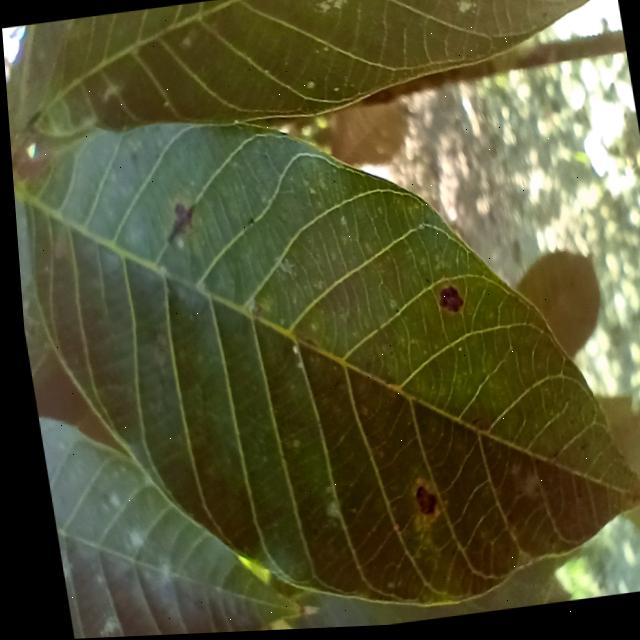Colletotrichum: (431, 286, 459, 317), (405, 487, 429, 518)
